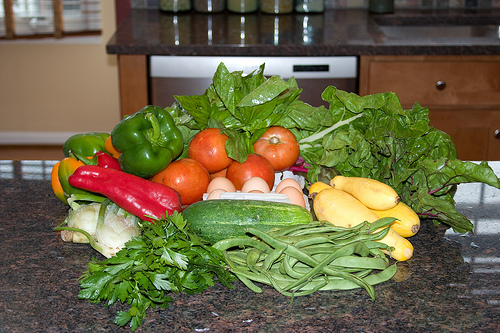cucumber: (177, 199, 314, 245)
